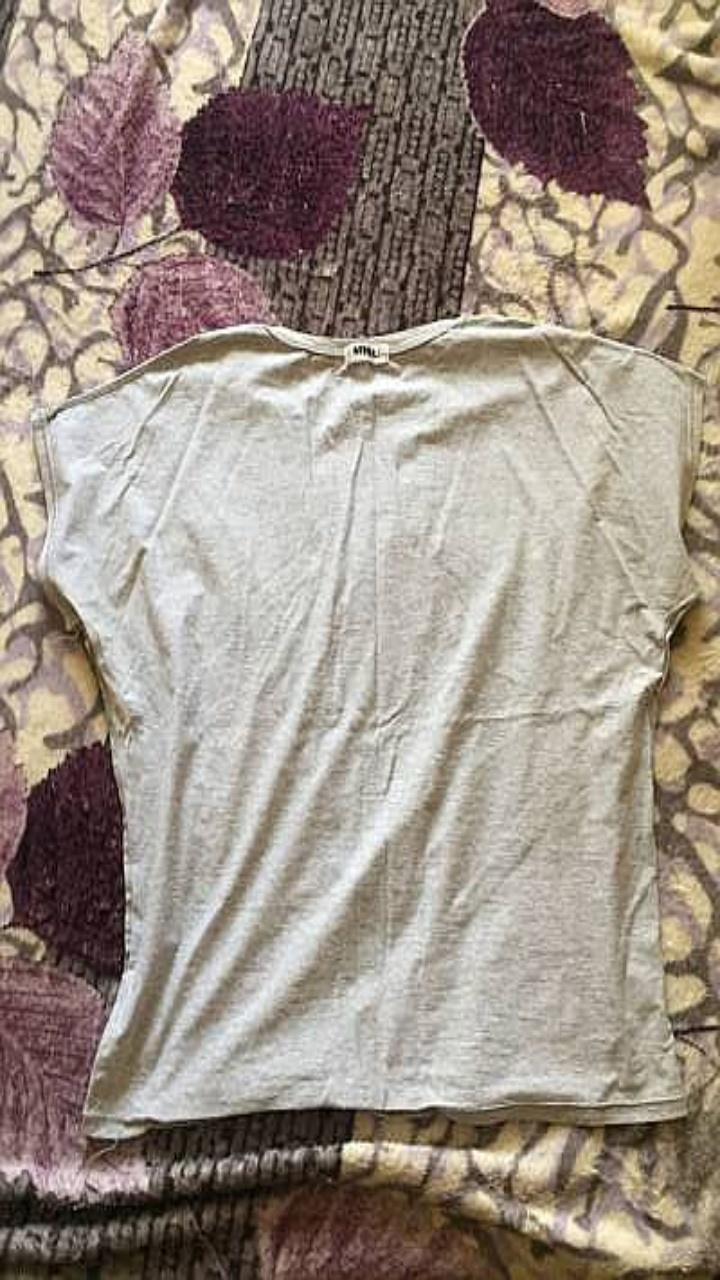T-Shirt: (33, 314, 704, 1138)
